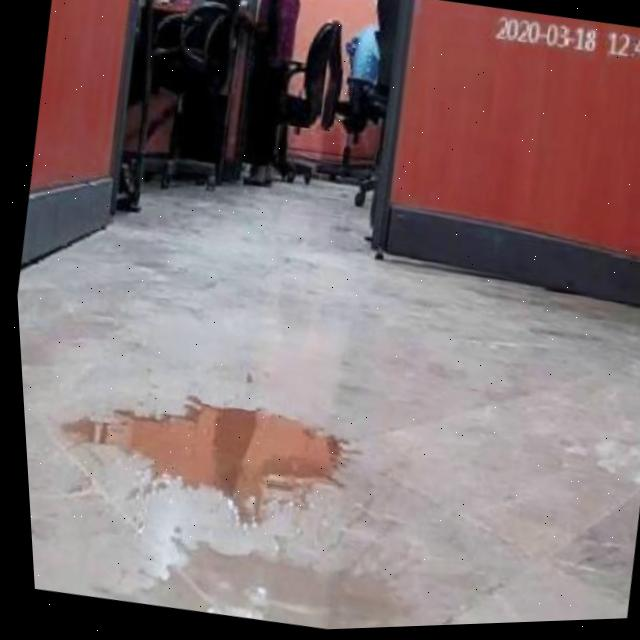spillage: (73, 408, 335, 512)
